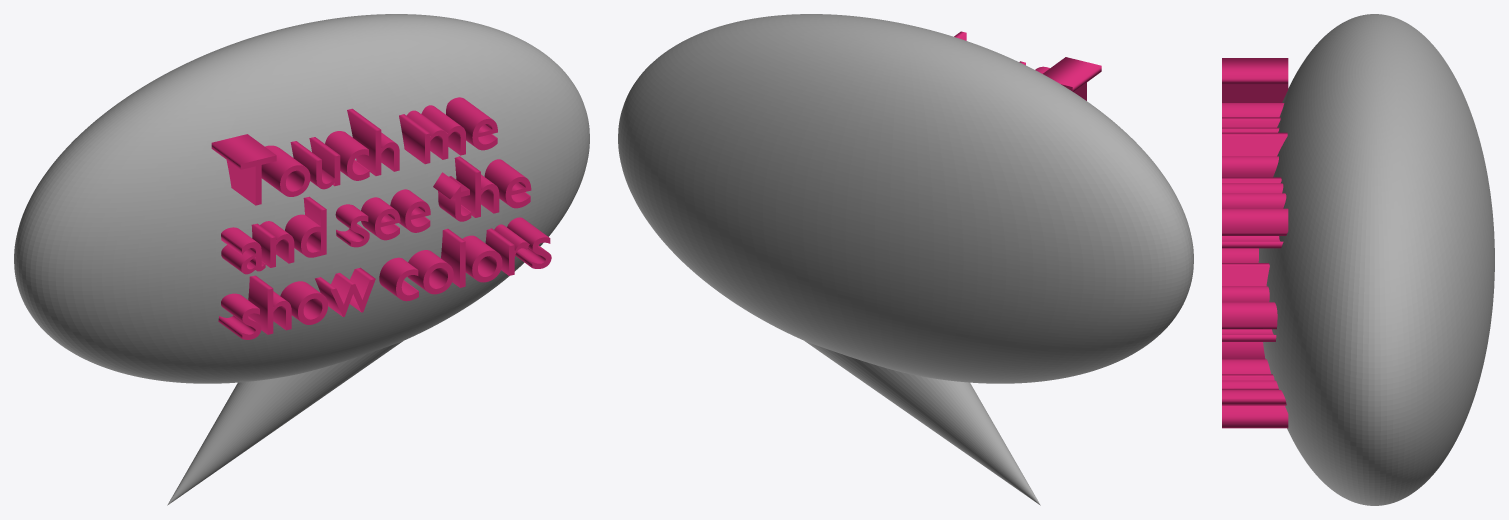
Rendered from Ballon.glb.
3 views of the same model, side by side, from view 1: azimuth 30°, elevation 25°; view 2: azimuth 150°, elevation 25°; view 3: azimuth 270°, elevation 25° (orthographic). The views are drawn at different scales.
Parts seen in each view (by area): view 1: Sphere, Text; view 2: Sphere, Text; view 3: Sphere, Text.
Part boxes in pixels (x1,y1,x2,y2): Sphere: (14,14,589,505); Text: (211,97,551,339); Sphere: (618,14,1193,505); Text: (954,31,1101,100); Sphere: (1258,14,1494,505); Text: (1222,58,1288,428).
Bounding box in the file's own units: 1.78 × 1.32 × 0.6539.
